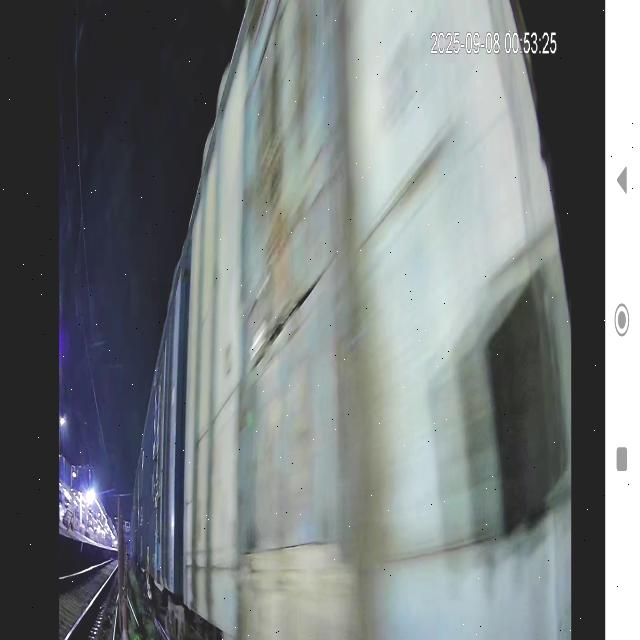coach: (188, 10, 580, 640)
